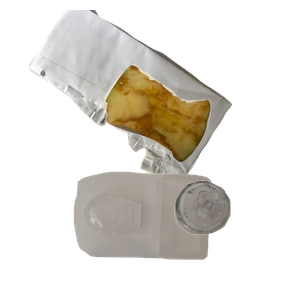glass: (172, 178, 300, 300)
paper: (27, 10, 252, 187)
plastic: (71, 169, 275, 300)
trash: (101, 62, 300, 217)
